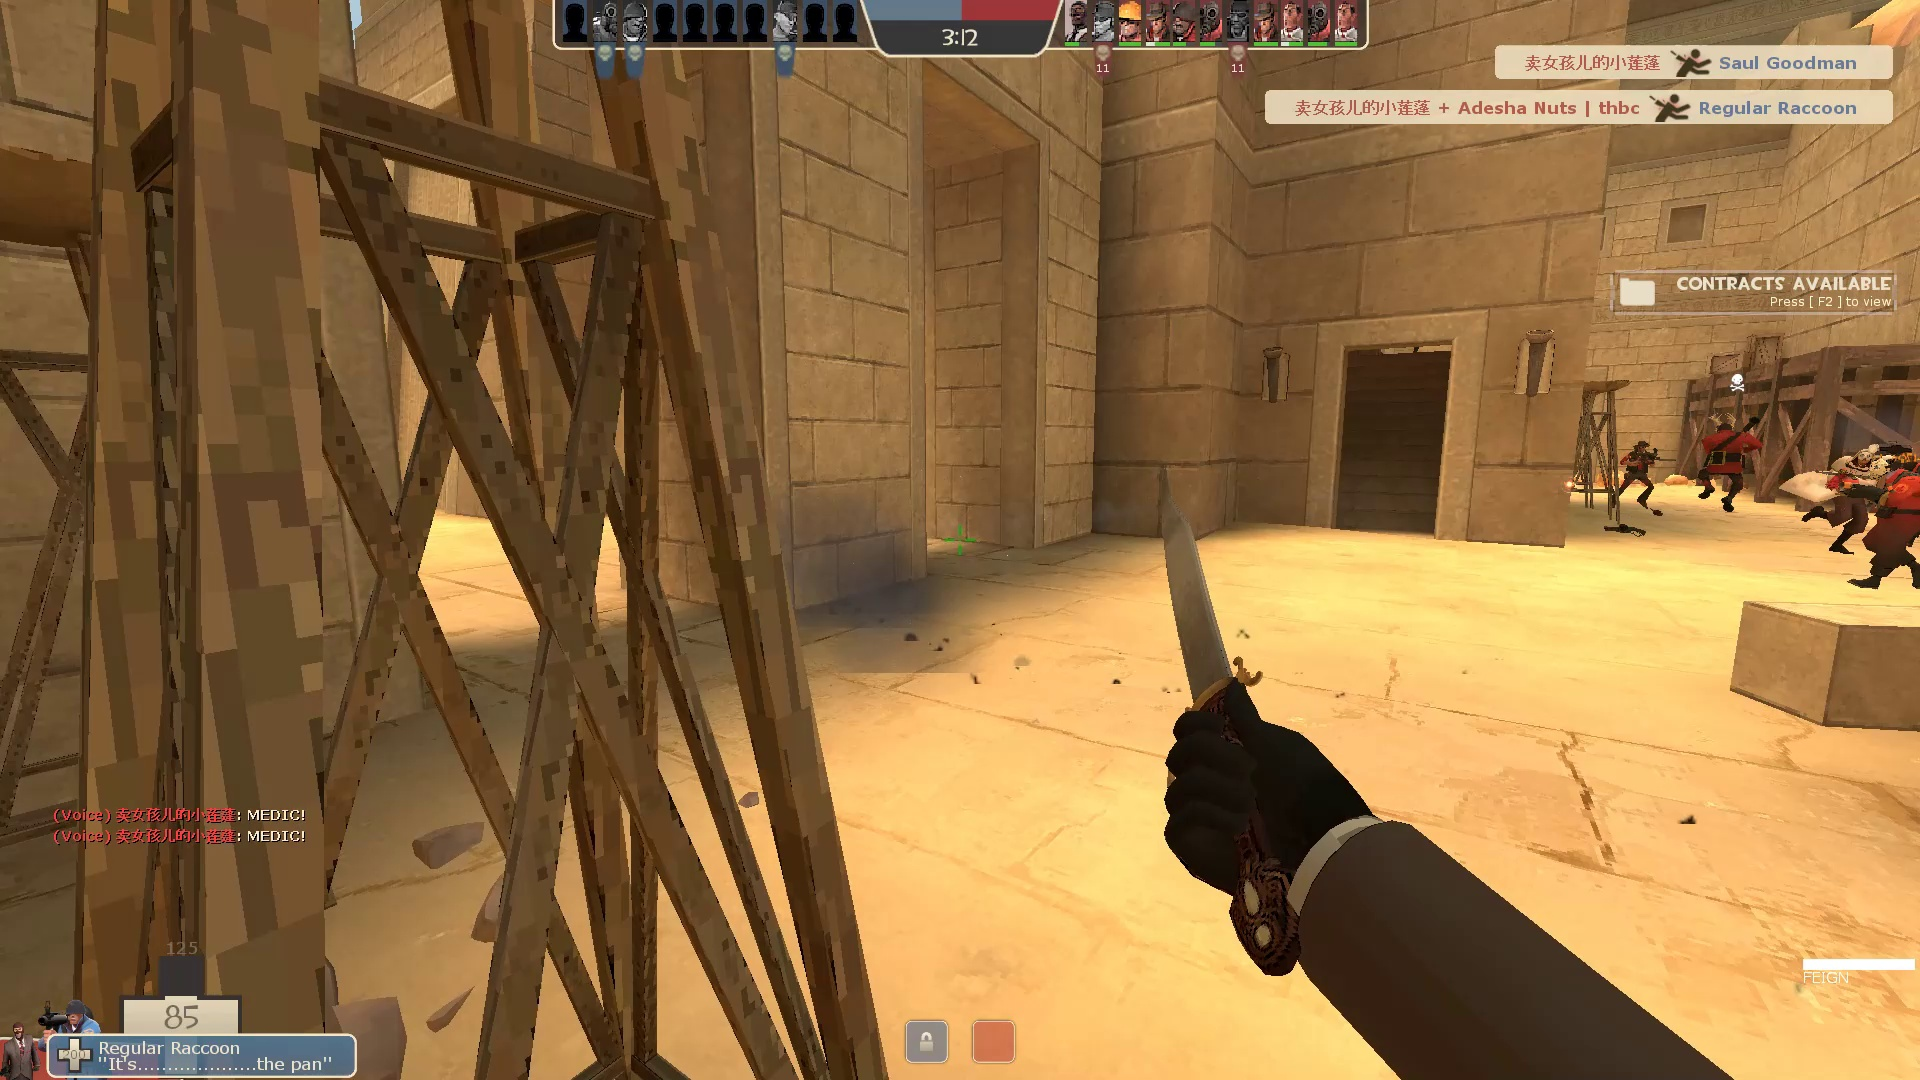red_medic: (1779, 436, 1900, 558)
red_pyro: (1822, 450, 1920, 591)
red_sniper: (1606, 434, 1679, 513)
red_soldier: (1685, 410, 1770, 518)
